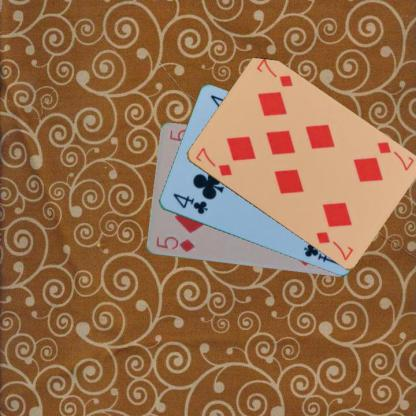4c: (170, 190, 208, 216)
5d: (153, 233, 196, 254)
7d: (374, 139, 415, 173), (192, 145, 233, 178)
